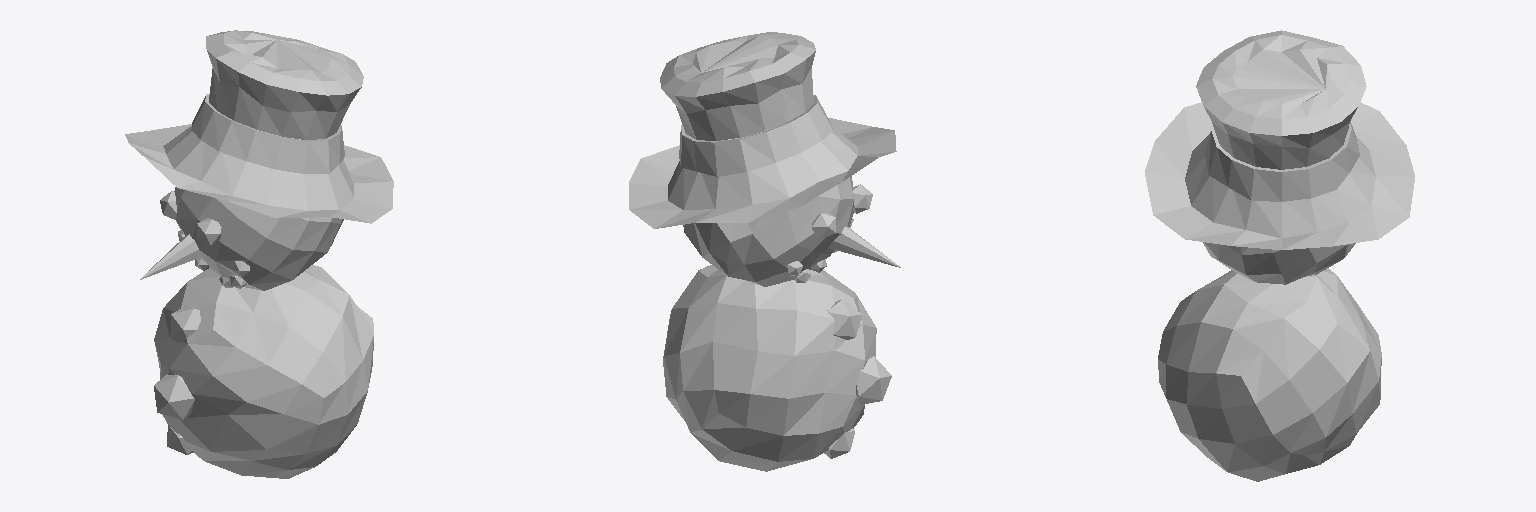
File: OBJTEST.obj
The picture shows the model from 3 angles: view 1: azimuth 30°, elevation 25°; view 2: azimuth 150°, elevation 25°; view 3: azimuth 270°, elevation 25°; orthographic projection.
Visible parts, largest first — view 1: default, _3, _1, _4, _5, _2; view 2: default, _3, _1, _4, _5, _2; view 3: _3, default, _4, _1.
Boxes of the visible parts, x1,y1,x2,y2 form: default: [154, 265, 373, 478]; _3: [125, 30, 393, 223]; _1: [174, 121, 343, 290]; _4: [191, 93, 344, 173]; _5: [154, 191, 249, 454]; _2: [140, 234, 202, 279]; default: [663, 265, 876, 471]; _3: [629, 32, 896, 228]; _1: [683, 124, 853, 286]; _4: [679, 95, 833, 176]; _5: [785, 184, 891, 458]; _2: [828, 226, 900, 267]; _3: [1145, 30, 1414, 249]; default: [1158, 268, 1381, 481]; _4: [1205, 121, 1359, 201]; _1: [1203, 242, 1355, 284].
Bounding box in the file's own units: 275 × 437 × 256.